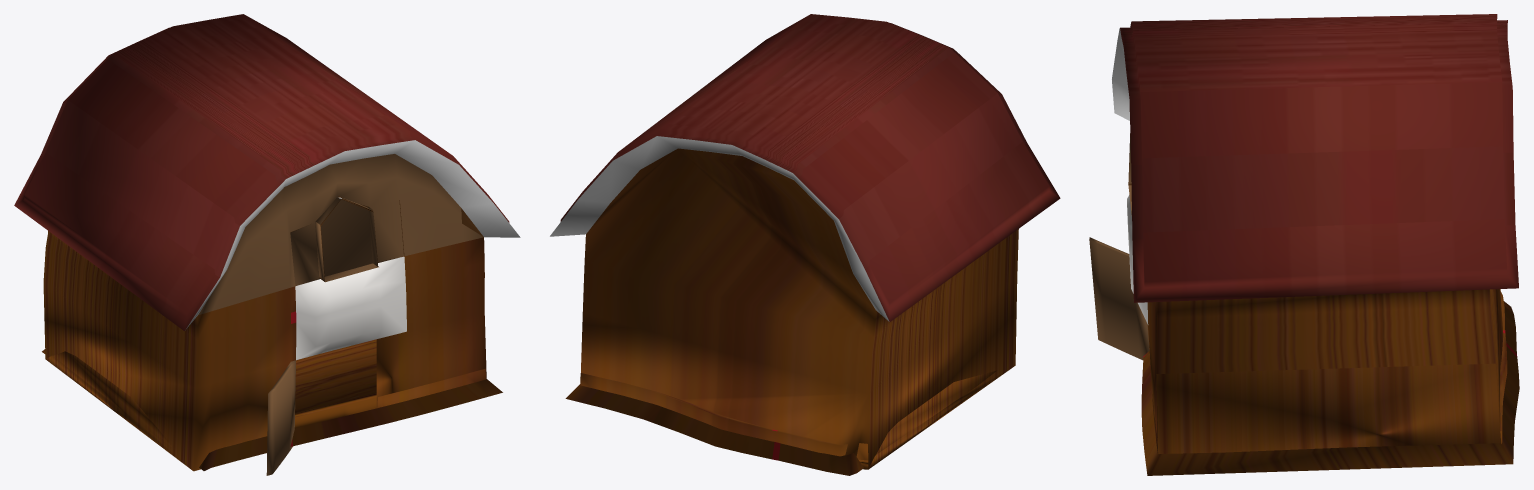
File: barn.fbx
3 renders of one model, left to right at view 1: azimuth 30°, elevation 25°; view 2: azimuth 150°, elevation 25°; view 3: azimuth 270°, elevation 25°, orthographic. The views are drawn at different scales.
Parts seen in each view (by area): view 1: barn; view 2: barn; view 3: barn.
Part boxes in pixels (left/top/right/bottom): barn: left=14, top=14, right=520, bottom=475; barn: left=550, top=14, right=1060, bottom=475; barn: left=1089, top=14, right=1519, bottom=475.
Bounding box in the file's own units: 57.61 × 48.94 × 54.11.
